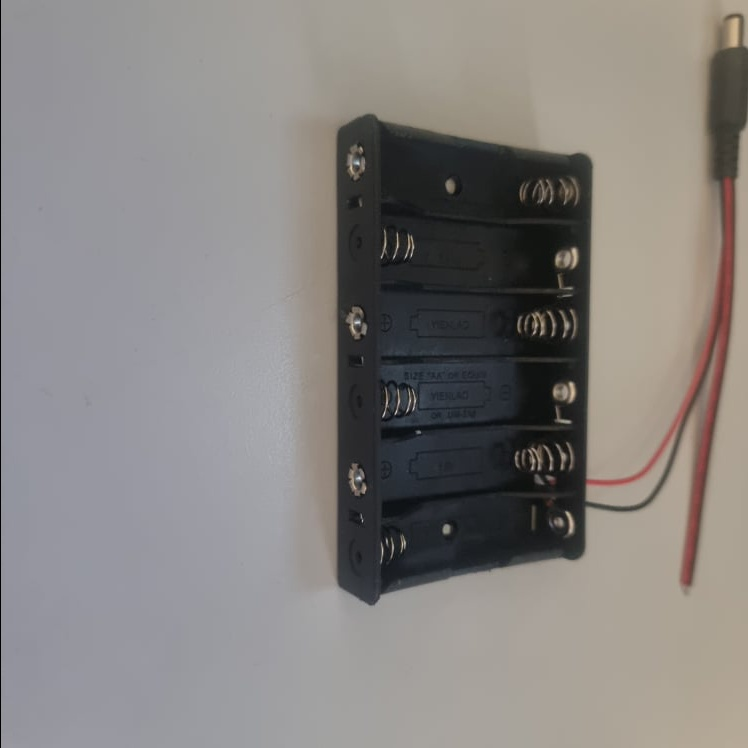BATTERY BOX: (334, 112, 591, 608)
